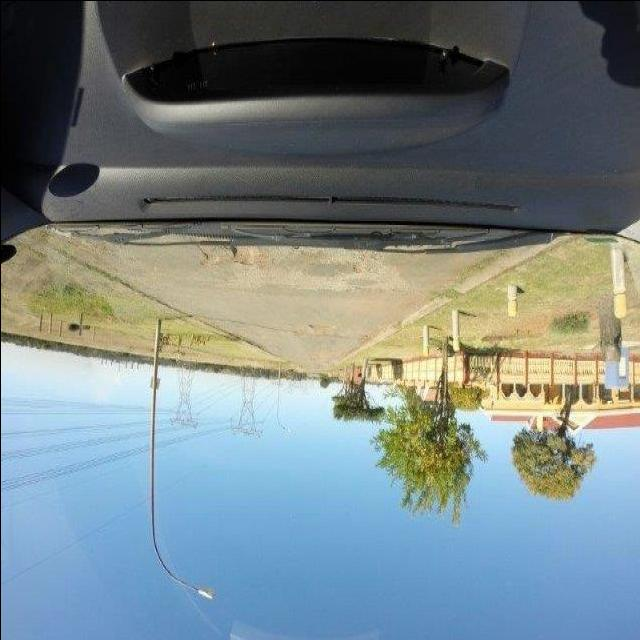lubang: (191, 244, 257, 272), (303, 320, 344, 338), (350, 260, 364, 274)
